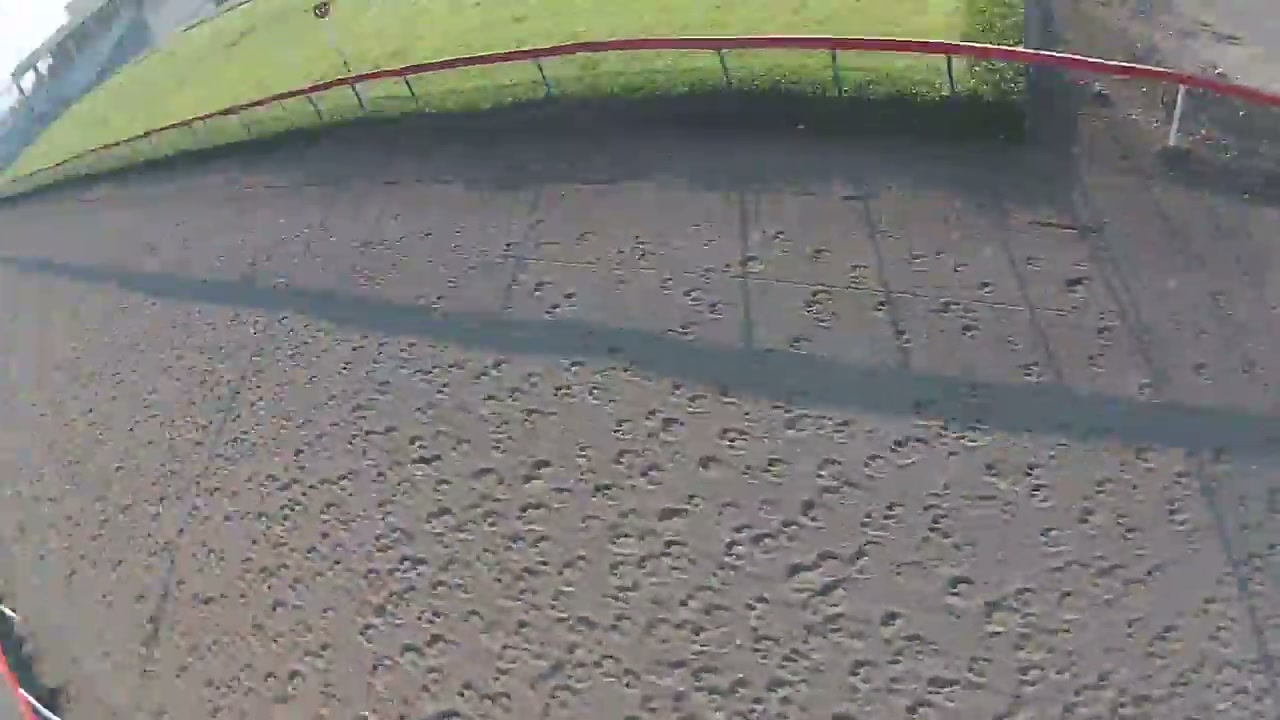animal_foot_print: (177, 324, 1108, 698)
